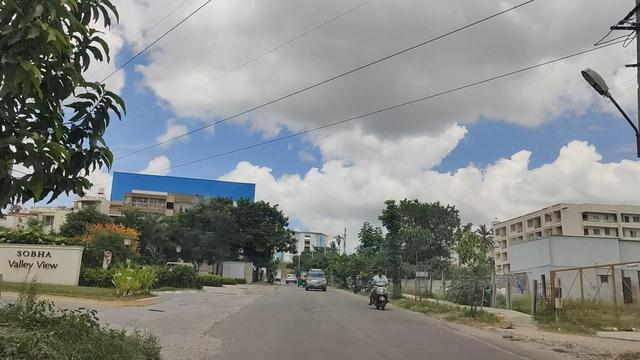RoadDamages: (202, 296, 266, 333), (171, 337, 234, 360), (472, 334, 527, 360)
